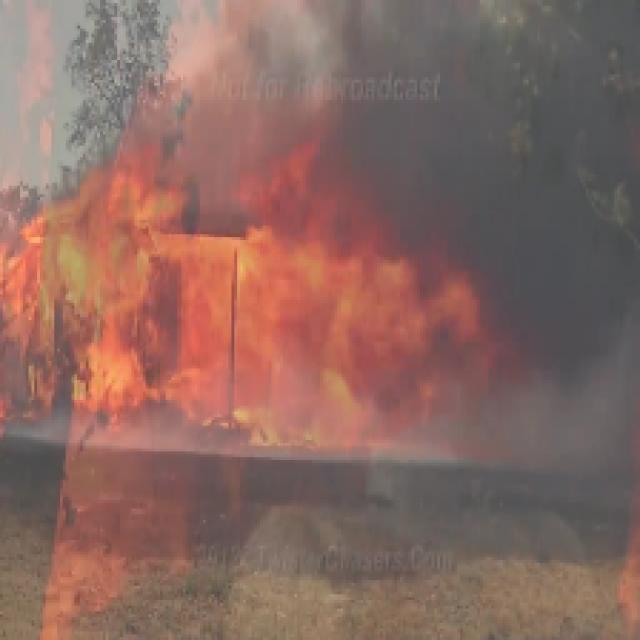Fire: (0, 0, 537, 529)
Smoke: (334, 2, 640, 278)
